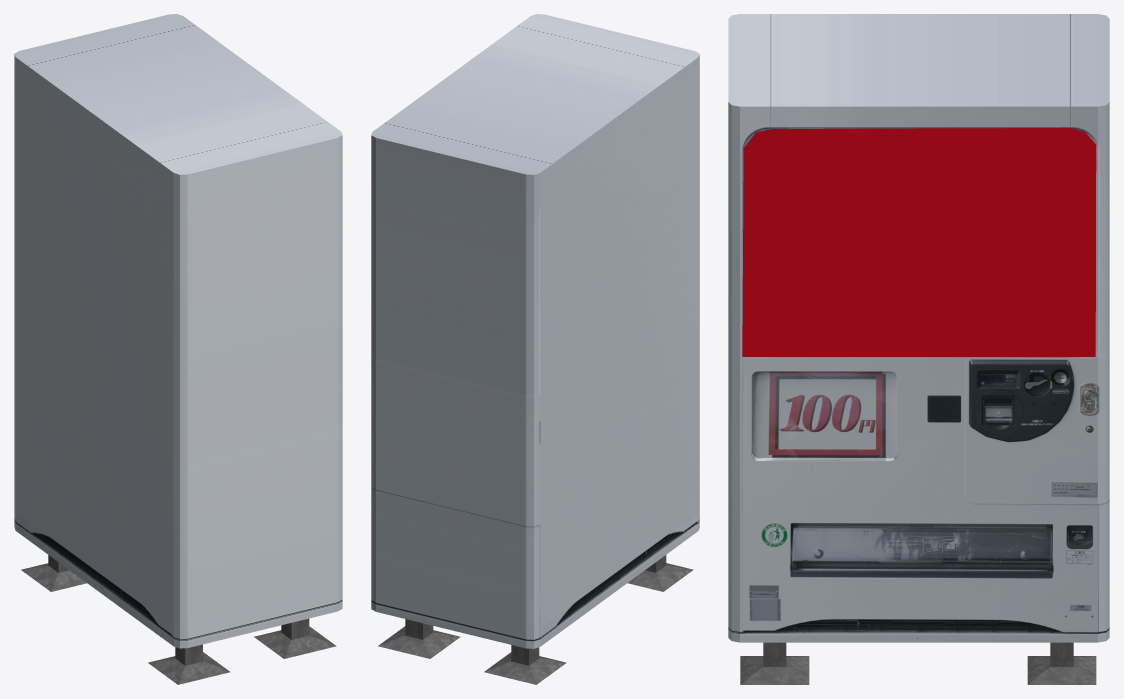
Rendered from Vending_Machine.fbx.
3 renders of one model, left to right at view 1: azimuth 30°, elevation 25°; view 2: azimuth 150°, elevation 25°; view 3: azimuth 270°, elevation 25°, orthographic. The views are drawn at different scales.
Parts seen in each view (by area): view 1: Vending Machine, Leg 4, Leg 3, Leg 2; view 2: Vending Machine, Leg 2, Leg 1, Leg 4; view 3: Vending Machine, Leg 1, Leg 3.
Part boxes in pixels (x1,y1,x2,y2): Vending Machine: (14,14,342,648); Leg 4: (148,644,230,684); Leg 3: (254,618,336,658); Leg 2: (21,555,86,591); Vending Machine: (371,14,699,648); Leg 2: (484,645,566,684); Leg 1: (378,619,460,658); Leg 4: (627,555,693,591); Vending Machine: (728,14,1109,642); Leg 1: (1027,642,1096,684); Leg 3: (740,642,809,684).
Bounding box in the file's own units: 163 × 462 × 275.
